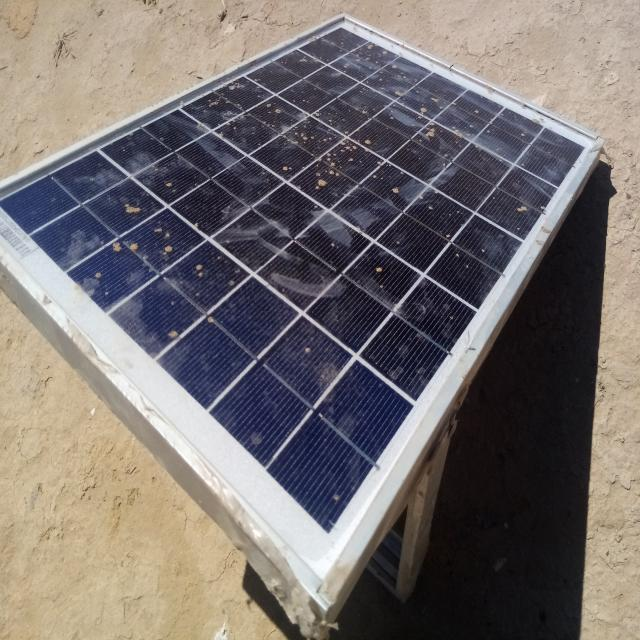faulty: (0, 14, 600, 609)
